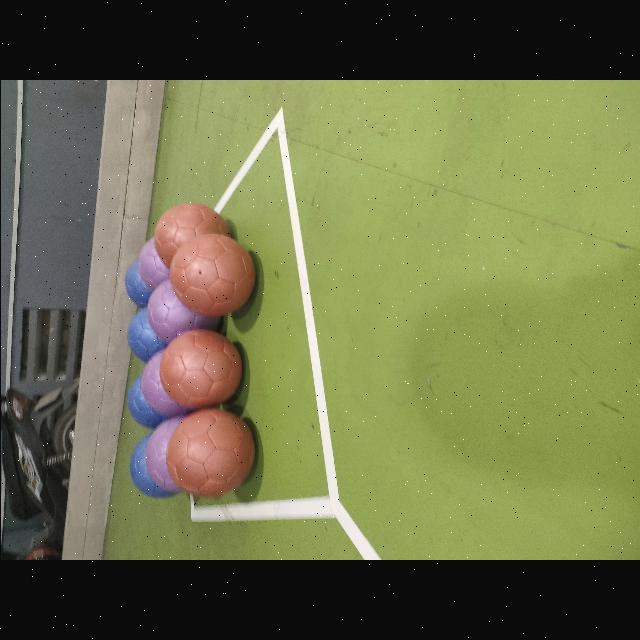B: (129, 434, 173, 498), (127, 308, 165, 362), (128, 376, 166, 428), (124, 260, 150, 308)
P: (146, 280, 220, 344), (140, 349, 192, 416), (144, 416, 183, 496), (137, 240, 191, 296)
R: (164, 409, 253, 497), (168, 234, 254, 316), (160, 329, 240, 408), (155, 202, 231, 274)
